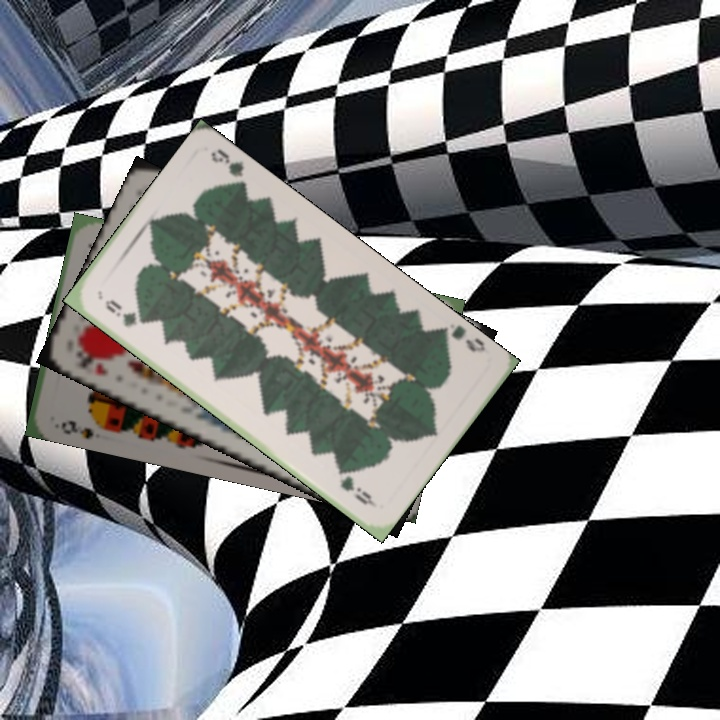G9: (435, 322, 489, 355), (101, 295, 147, 330)
HK: (71, 348, 112, 379)
S9: (57, 414, 112, 441)
